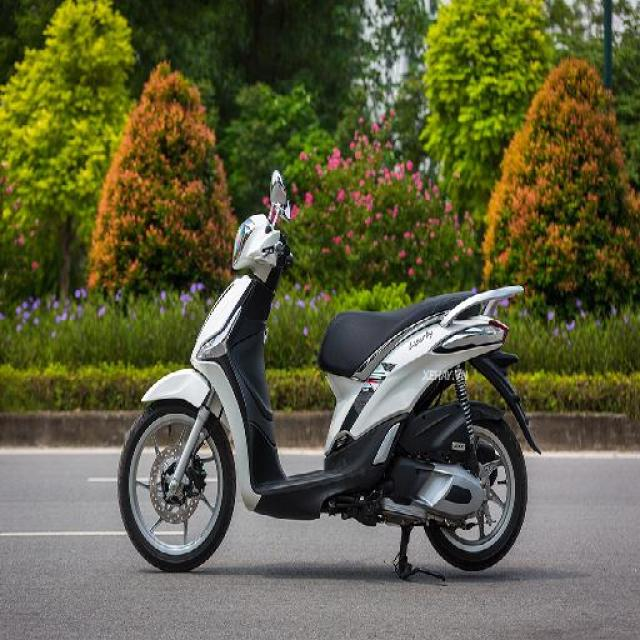All: (114, 206, 546, 575)
Head: (232, 208, 294, 277)
Tail: (456, 283, 522, 342)
